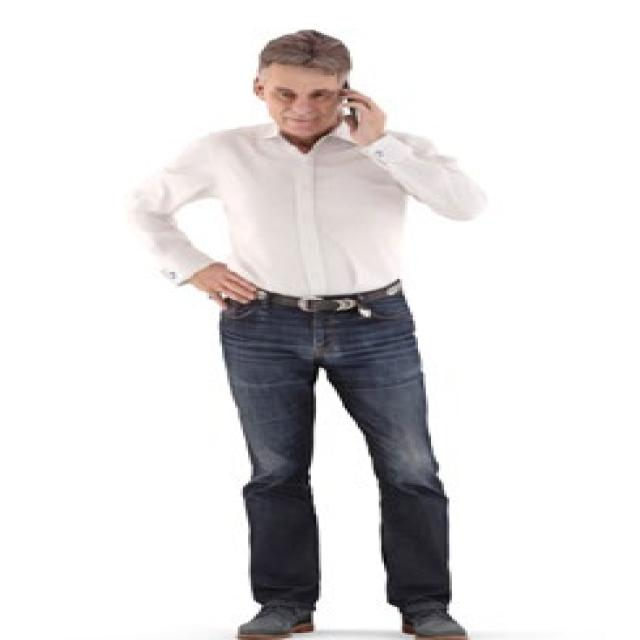standing: (132, 27, 481, 640)
